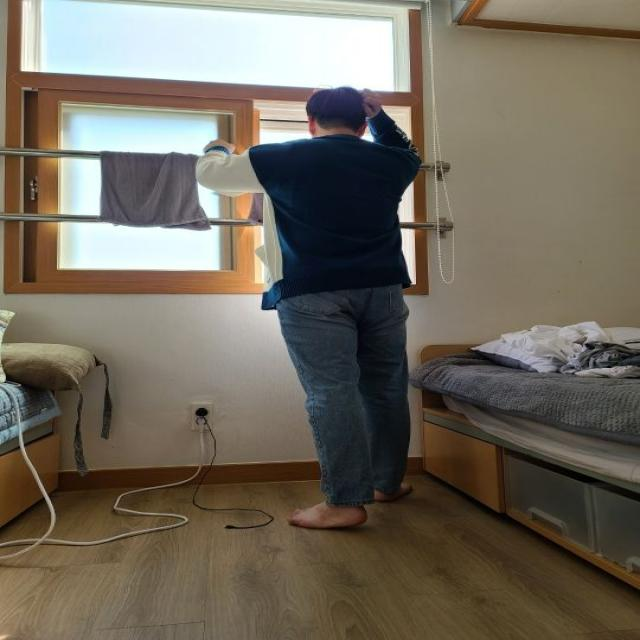cardigan: (196, 105, 423, 303)
denimpants: (275, 275, 419, 507)
